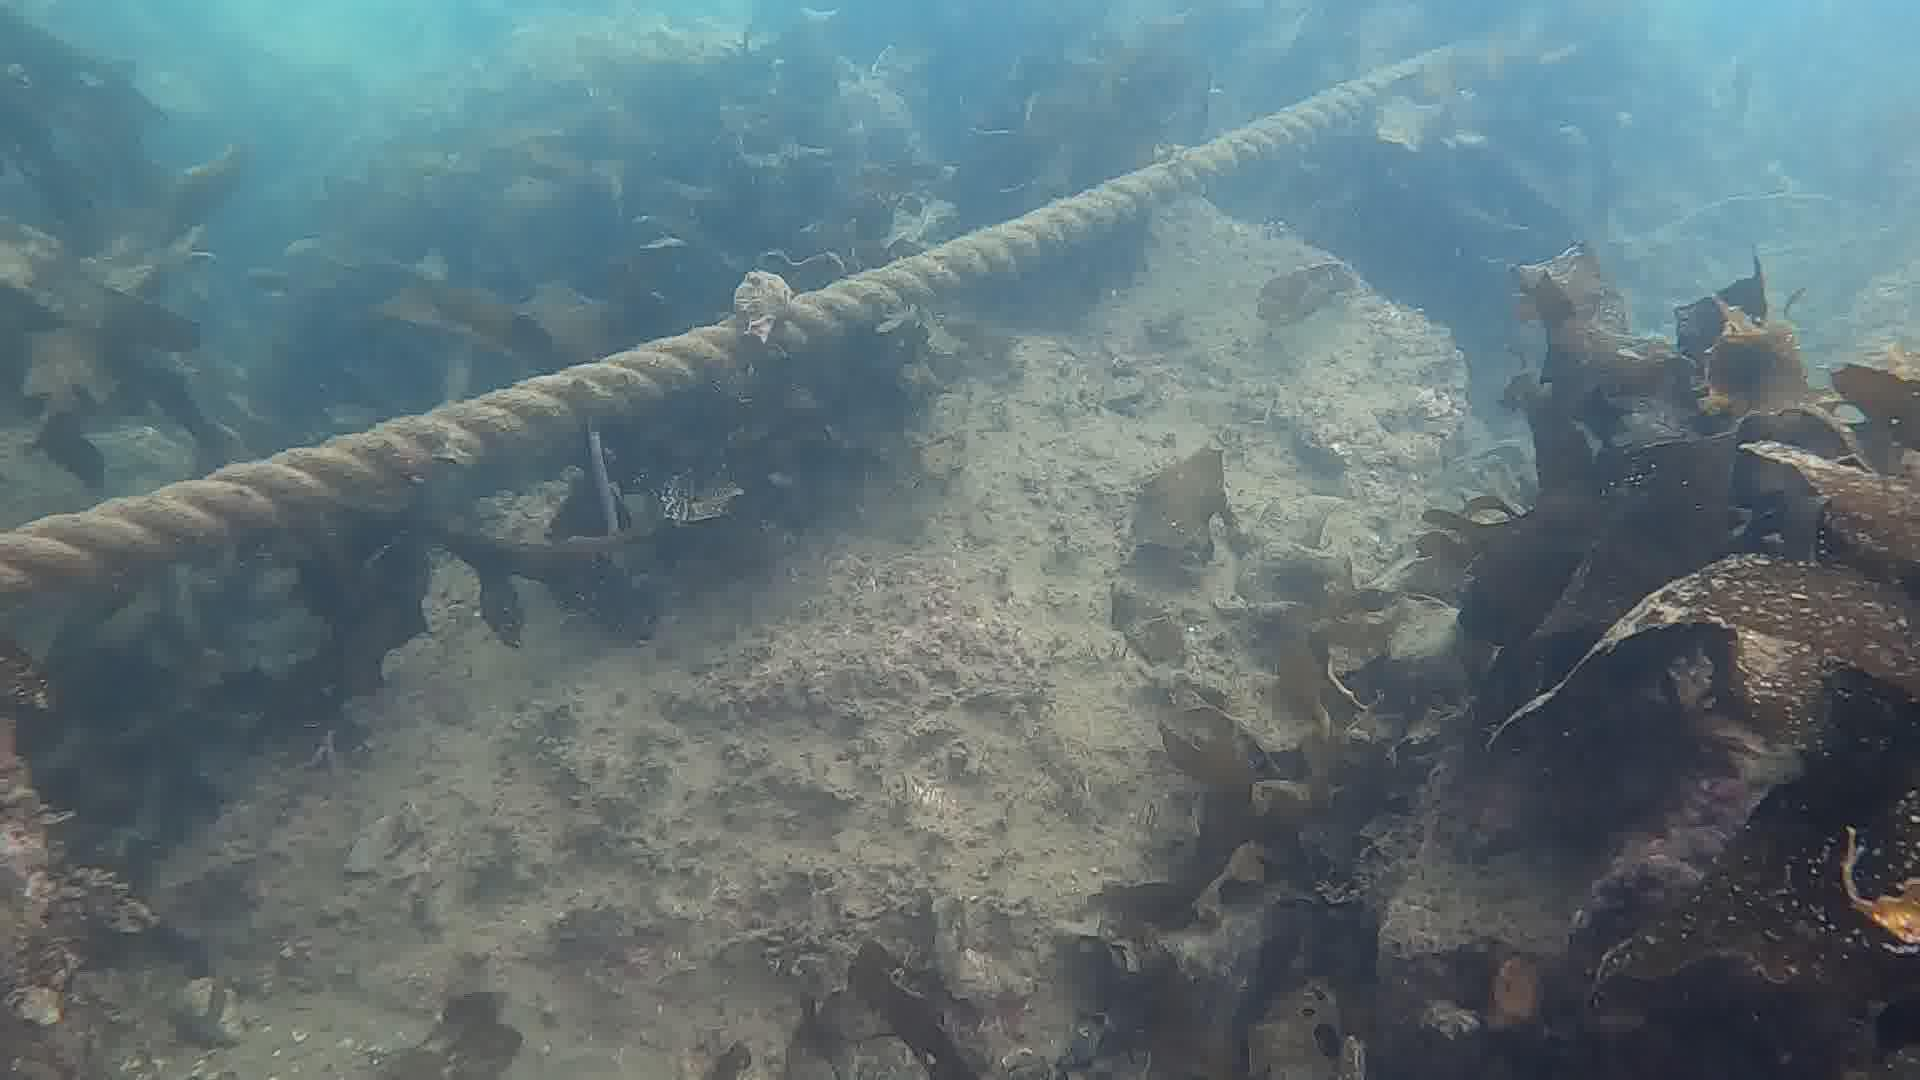rope: (0, 41, 1466, 589)
